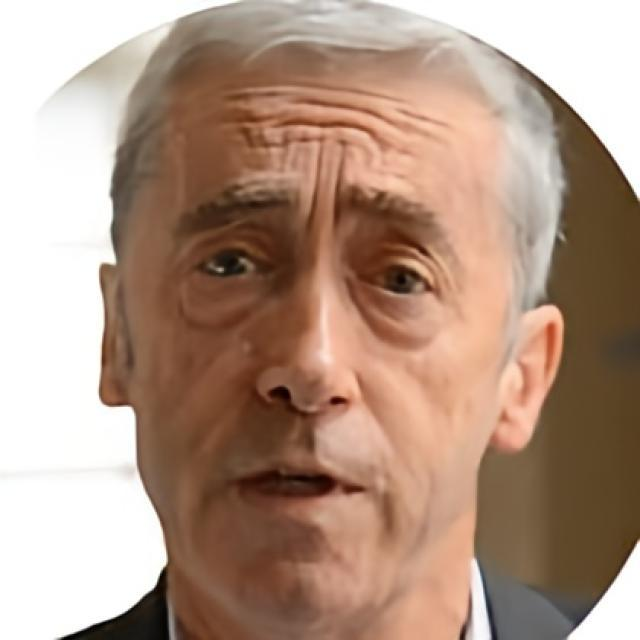sad: (137, 52, 508, 625)
